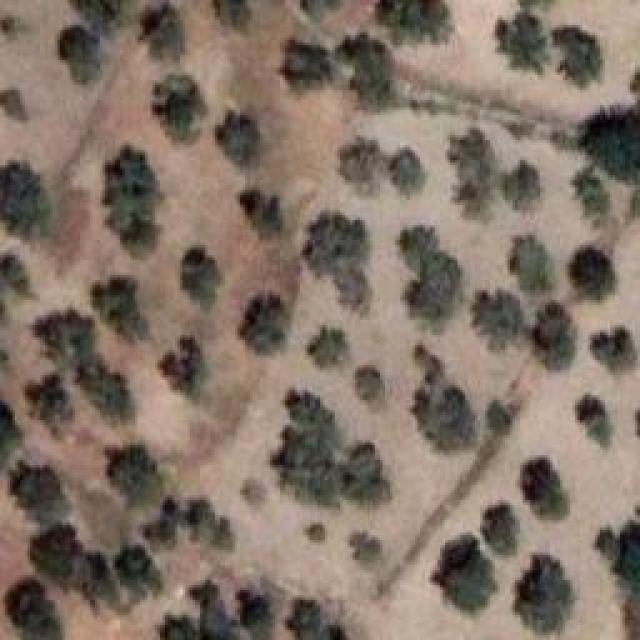Tree: (33, 310, 134, 422), (268, 388, 344, 513), (30, 525, 120, 606), (303, 213, 372, 314), (400, 225, 463, 323), (105, 148, 158, 251), (580, 103, 640, 183), (515, 555, 575, 635), (160, 580, 240, 640), (450, 128, 502, 220), (145, 498, 233, 550), (413, 380, 478, 450), (10, 462, 70, 527), (344, 33, 396, 106), (0, 164, 50, 238), (153, 75, 207, 142), (5, 578, 63, 640), (107, 445, 162, 508), (338, 440, 389, 505), (280, 37, 337, 94), (93, 282, 149, 340), (500, 13, 551, 75), (377, 0, 452, 42), (445, 553, 499, 611), (240, 295, 291, 355), (533, 303, 578, 371), (473, 290, 522, 351), (157, 337, 205, 397), (522, 458, 570, 518), (25, 374, 73, 434), (558, 28, 603, 89), (115, 545, 163, 601), (140, 3, 186, 60), (510, 235, 553, 292), (288, 600, 349, 640), (570, 248, 616, 301), (183, 248, 222, 310), (60, 25, 101, 83), (573, 166, 612, 226), (500, 160, 541, 215), (335, 142, 384, 188), (218, 113, 259, 165), (612, 520, 640, 595), (240, 190, 284, 237), (480, 503, 519, 556), (593, 327, 637, 372), (385, 148, 426, 194), (72, 0, 132, 29), (308, 328, 351, 368), (240, 590, 271, 640), (348, 525, 389, 562), (0, 400, 22, 468), (577, 395, 605, 448), (0, 255, 29, 296), (355, 365, 385, 403), (212, 0, 245, 29), (488, 400, 514, 435), (595, 528, 620, 561), (235, 475, 264, 503), (300, 0, 340, 19), (303, 520, 328, 549), (3, 90, 26, 120)
